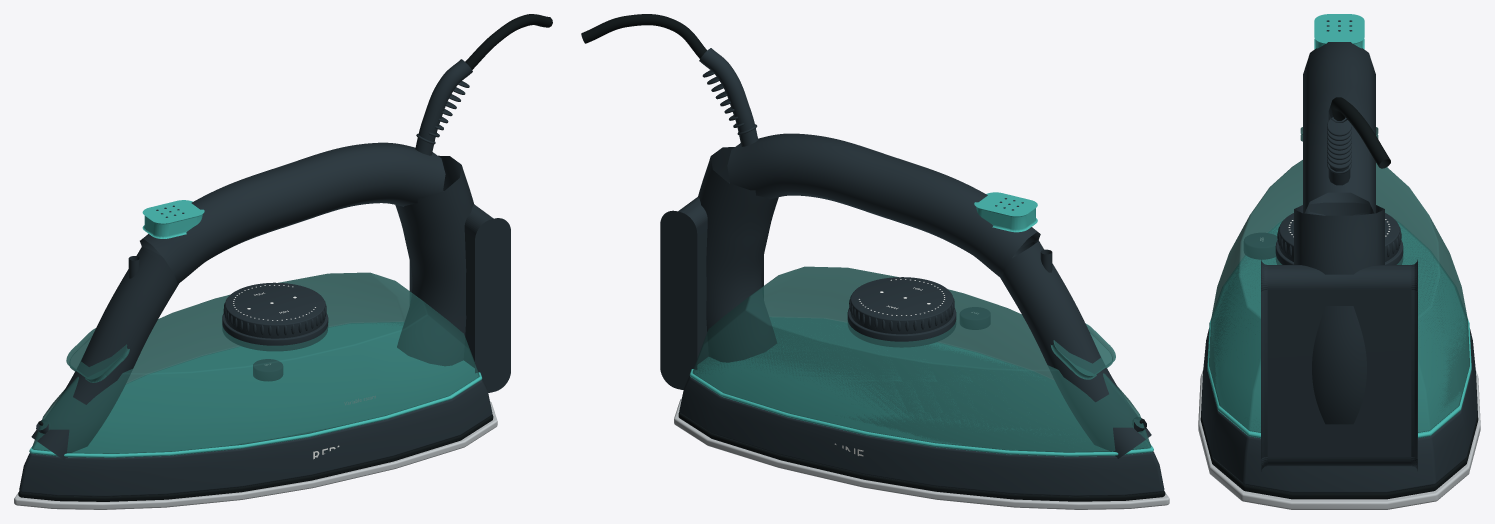
3 renders of one model, left to right at view 1: azimuth 30°, elevation 25°; view 2: azimuth 150°, elevation 25°; view 3: azimuth 270°, elevation 25°, orthographic. The views are drawn at different scales.
Visible parts, largest first — view 1: Smoked water reservoir, Continuous turquoise trim, Lower housing, Arched upper grip, Rear heel support, Front handle support, Rear heel rest, Temperature dial, Metal soleplate, Dark soleplate gasket, Steam button, Cord strain relief (+3 smaller); view 2: Smoked water reservoir, Lower housing, Arched upper grip, Continuous turquoise trim, Rear heel support, Front handle support, Rear heel rest, Temperature dial, Metal soleplate, Dark soleplate gasket, Steam button, Cord strain relief (+3 smaller); view 3: Rear heel rest, Smoked water reservoir, Continuous turquoise trim, Rear heel support, Lower housing, Arched upper grip, Metal soleplate, Dark soleplate gasket, Steam button, Short visible cable, Temperature dial, Self clean button (+3 smaller).
Boxes of the visible parts, x1,y1,x2,y2 form: Smoked water reservoir: (32, 272, 479, 453); Continuous turquoise trim: (29, 322, 482, 457); Lower housing: (19, 379, 492, 496); Arched upper grip: (140, 142, 445, 283); Rear heel support: (395, 155, 474, 365); Front handle support: (31, 246, 179, 460); Rear heel rest: (409, 190, 510, 392); Temperature dial: (225, 282, 325, 338); Metal soleplate: (14, 401, 497, 509); Dark soleplate gasket: (18, 414, 493, 501); Steam button: (142, 200, 204, 238); Cord strain relief: (415, 59, 472, 155); Smoked water reservoir: (692, 266, 1151, 452); Lower housing: (679, 375, 1164, 496); Arched upper grip: (727, 133, 1040, 278); Continuous turquoise trim: (690, 322, 1153, 456); Rear heel support: (698, 147, 778, 362); Front handle support: (1000, 240, 1151, 458); Rear heel rest: (660, 183, 763, 389); Temperature dial: (850, 277, 953, 334); Metal soleplate: (674, 398, 1169, 509); Dark soleplate gasket: (678, 412, 1165, 501); Steam button: (974, 192, 1037, 232); Cord strain relief: (699, 48, 758, 146); Rear heel rest: (1261, 259, 1417, 471); Smoked water reservoir: (1209, 160, 1469, 432); Continuous turquoise trim: (1207, 223, 1471, 438); Rear heel support: (1294, 202, 1384, 424); Lower housing: (1201, 329, 1477, 492); Arched upper grip: (1303, 42, 1375, 215); Metal soleplate: (1198, 370, 1480, 509); Dark soleplate gasket: (1200, 371, 1478, 499); Steam button: (1314, 14, 1364, 49); Short visible cable: (1331, 97, 1390, 168); Temperature dial: (1279, 213, 1399, 261); Self clean button: (1244, 233, 1277, 259).
Bounding box in the file's own units: 0.3388 × 0.2103 × 0.124.
